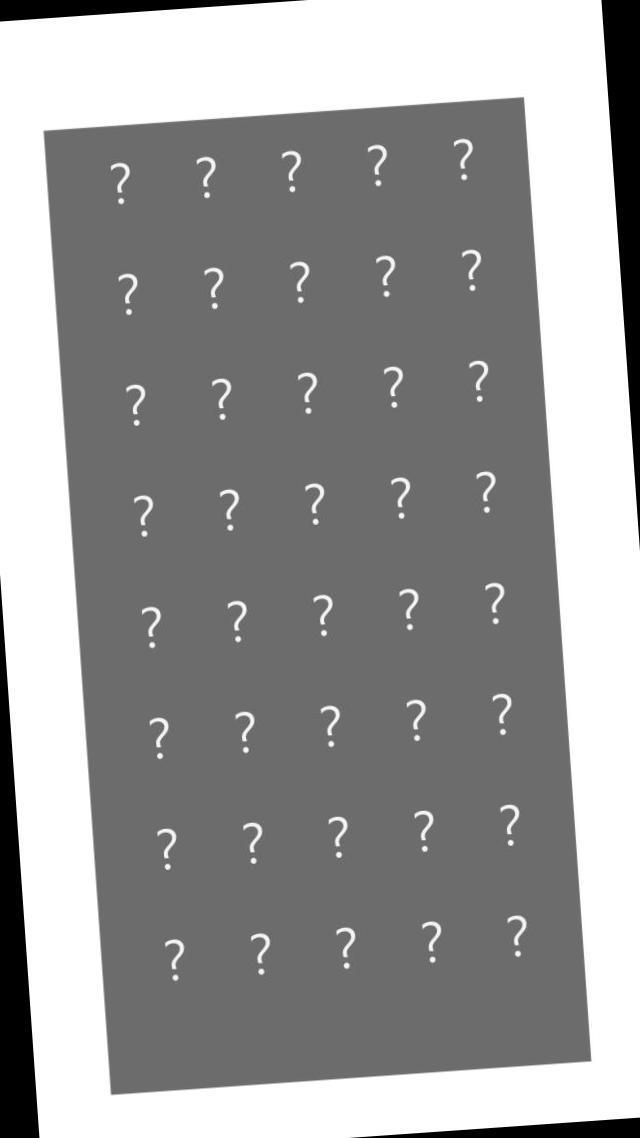ASCII: (492, 794, 528, 851), (241, 926, 279, 980), (316, 693, 346, 759), (326, 920, 362, 975), (213, 481, 250, 534), (398, 692, 433, 747), (288, 365, 324, 417), (141, 711, 177, 763), (158, 934, 194, 986), (323, 806, 353, 868), (500, 907, 534, 961), (282, 258, 318, 308), (392, 583, 427, 634), (486, 687, 519, 741), (228, 705, 262, 757), (408, 804, 442, 856), (377, 359, 410, 412), (299, 474, 332, 527), (192, 146, 222, 204), (236, 818, 270, 869), (120, 377, 152, 431), (384, 470, 416, 524), (150, 824, 183, 876), (220, 596, 254, 646), (134, 602, 168, 652), (308, 589, 340, 642), (126, 488, 158, 540), (362, 134, 391, 191), (109, 151, 137, 210), (417, 914, 448, 967), (471, 463, 501, 516), (274, 144, 305, 195), (111, 270, 143, 319), (371, 250, 401, 302), (208, 372, 238, 424), (463, 356, 494, 405), (458, 244, 487, 296), (448, 135, 478, 184), (480, 578, 510, 626), (200, 263, 229, 312)
